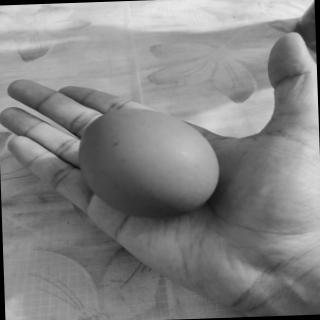Telur: (75, 106, 223, 223)
